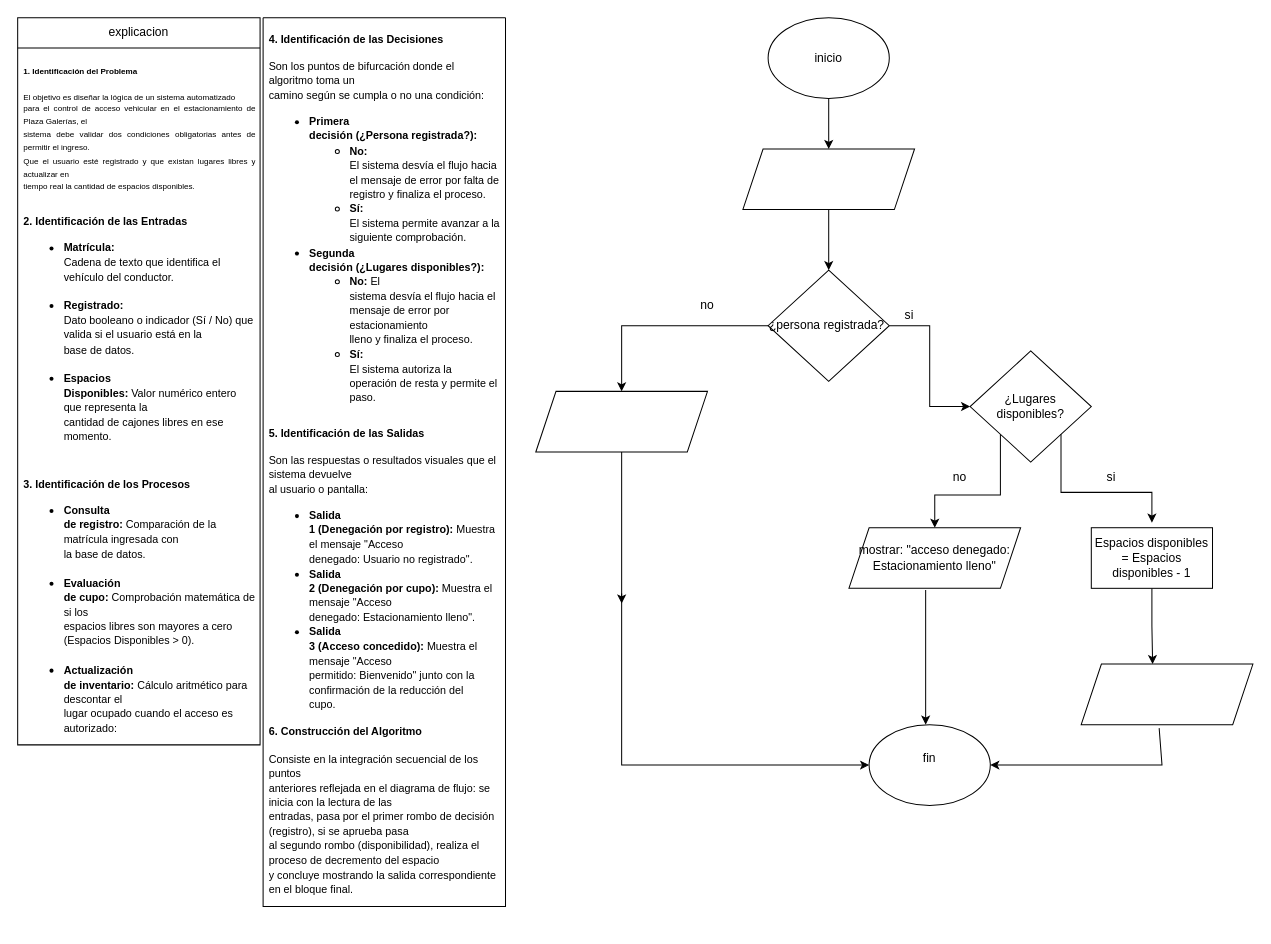
This 1271x944 diagram has some shape labels left out. Here are the shapes that lost their labels. From the top down, the centre of each, then its label:
the point at 828,179: ingresar: matricula, registros, espacio
the point at 621,421: mostrar: "accseso denegado: Usuario no registrado"
the point at 1166,694: mostrar: "acceso permitido: bienvenido"
